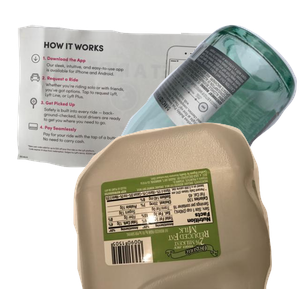glass: (86, 22, 300, 202)
paper: (14, 22, 247, 191)
plastic: (71, 120, 300, 300)
trash: (81, 168, 261, 300)
